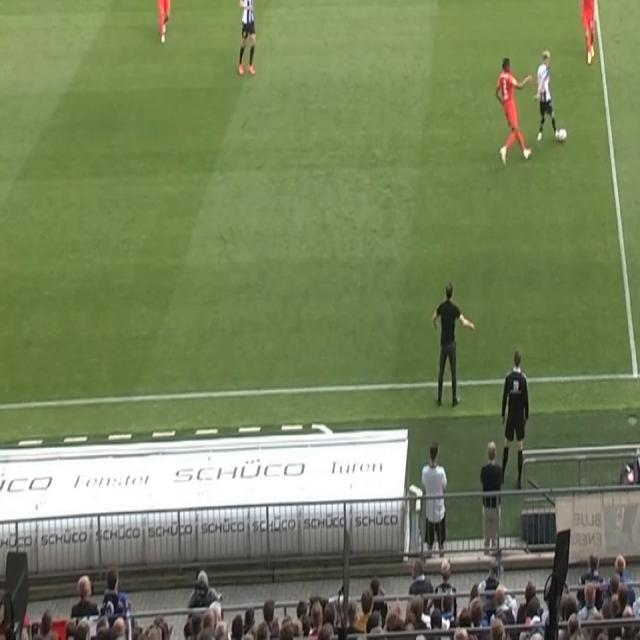ball: (557, 125, 567, 143)
